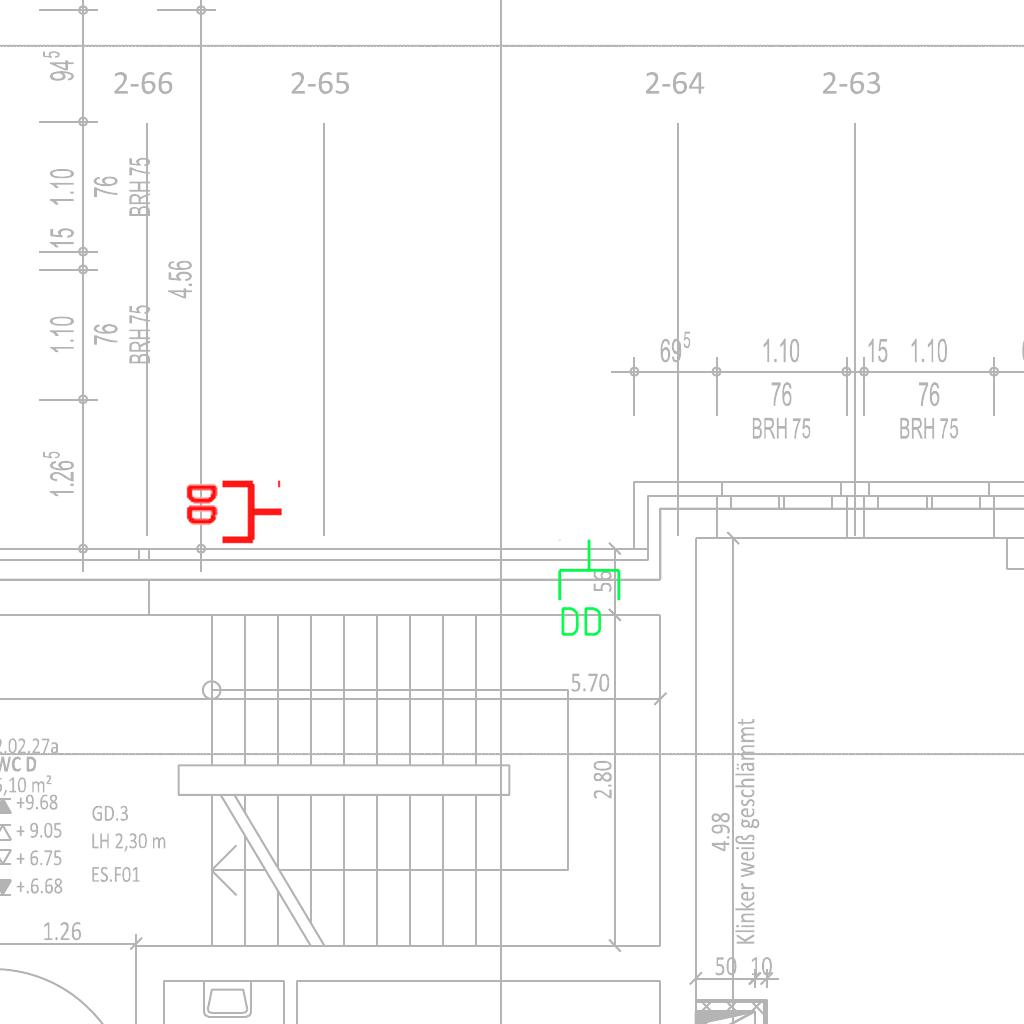Datenanschluss_zweifach: (554, 537, 623, 640), (182, 479, 285, 548)
